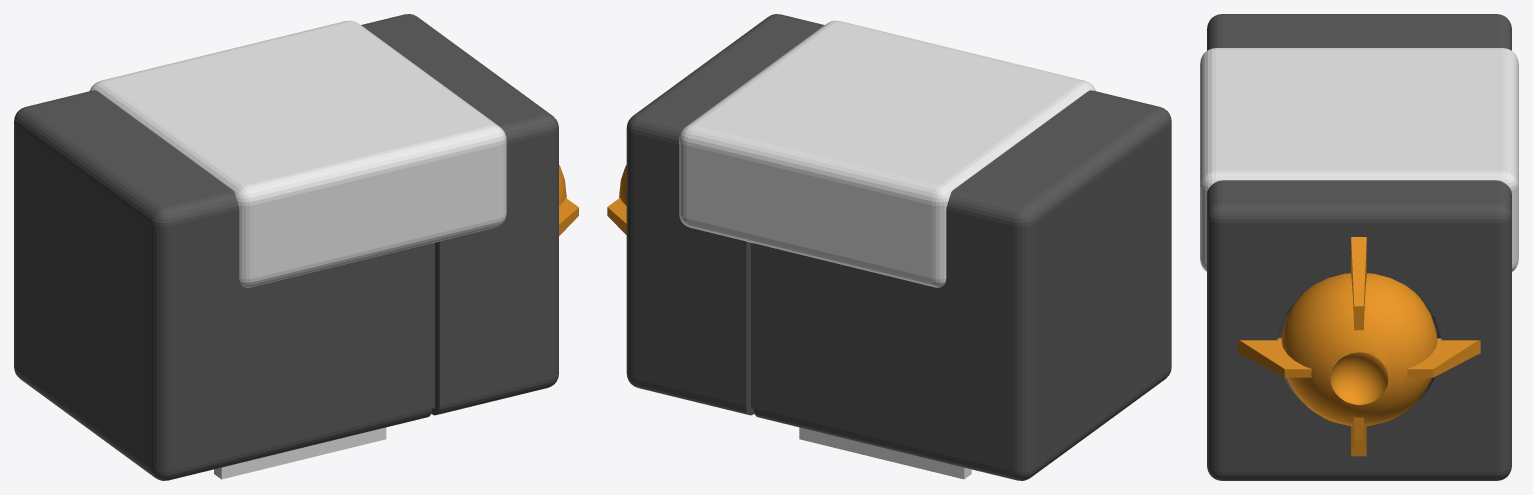
The model's file is touch_sensor.fbx.
The picture shows the model from 3 angles, left to right: view 1: azimuth 30°, elevation 25°; view 2: azimuth 150°, elevation 25°; view 3: azimuth 270°, elevation 25°; orthographic projection.
Parts seen in each view (by area): view 1: Cube, Cube.001, Cube.004, Sphere.001; view 2: Cube, Cube.001, Cube.004, Sphere.001; view 3: Cube, Cube.001, Sphere.001.
Boxes of the visible parts, x1=… form: Cube: x1=14, y1=14, x2=558, y2=480; Cube.001: x1=90, y1=20, x2=506, y2=287; Cube.004: x1=214, y1=427, x2=386, y2=479; Sphere.001: x1=559, y1=165, x2=578, y2=235; Cube: x1=626, y1=14, x2=1171, y2=480; Cube.001: x1=679, y1=20, x2=1095, y2=287; Cube.004: x1=799, y1=427, x2=971, y2=479; Sphere.001: x1=607, y1=165, x2=626, y2=234; Cube: x1=1207, y1=14, x2=1511, y2=480; Cube.001: x1=1200, y1=48, x2=1518, y2=271; Sphere.001: x1=1237, y1=237, x2=1480, y2=456.
Bounding box in the file's own units: 359 × 239 × 209.
